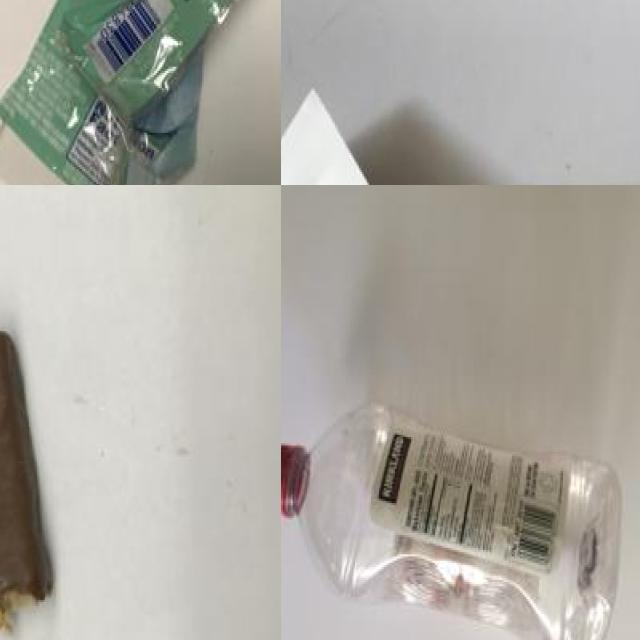compost: (0, 315, 99, 640)
paper: (281, 85, 575, 185)
plastic: (281, 407, 630, 640)
trash: (0, 0, 281, 185)
